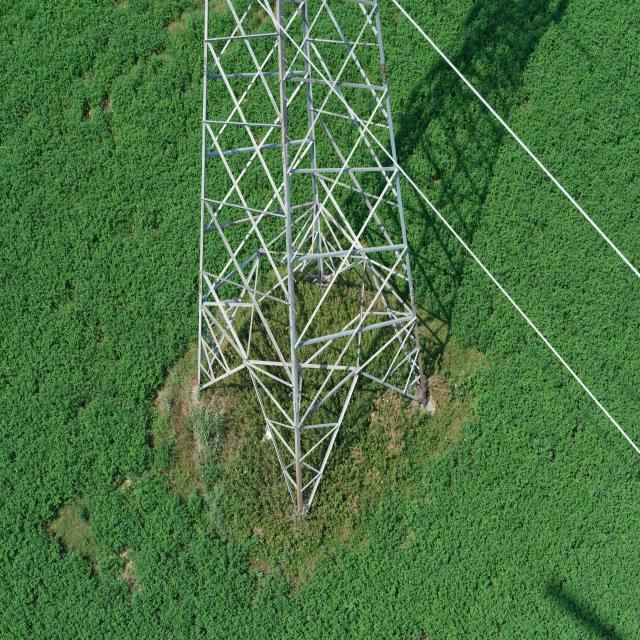voltage_line: (176, 0, 429, 520)
